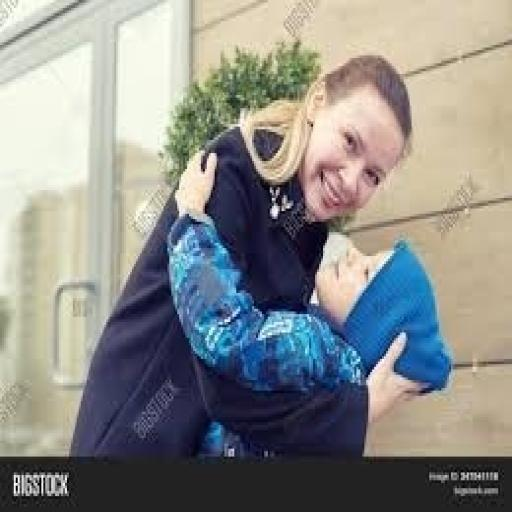hugging: (67, 50, 453, 462)
